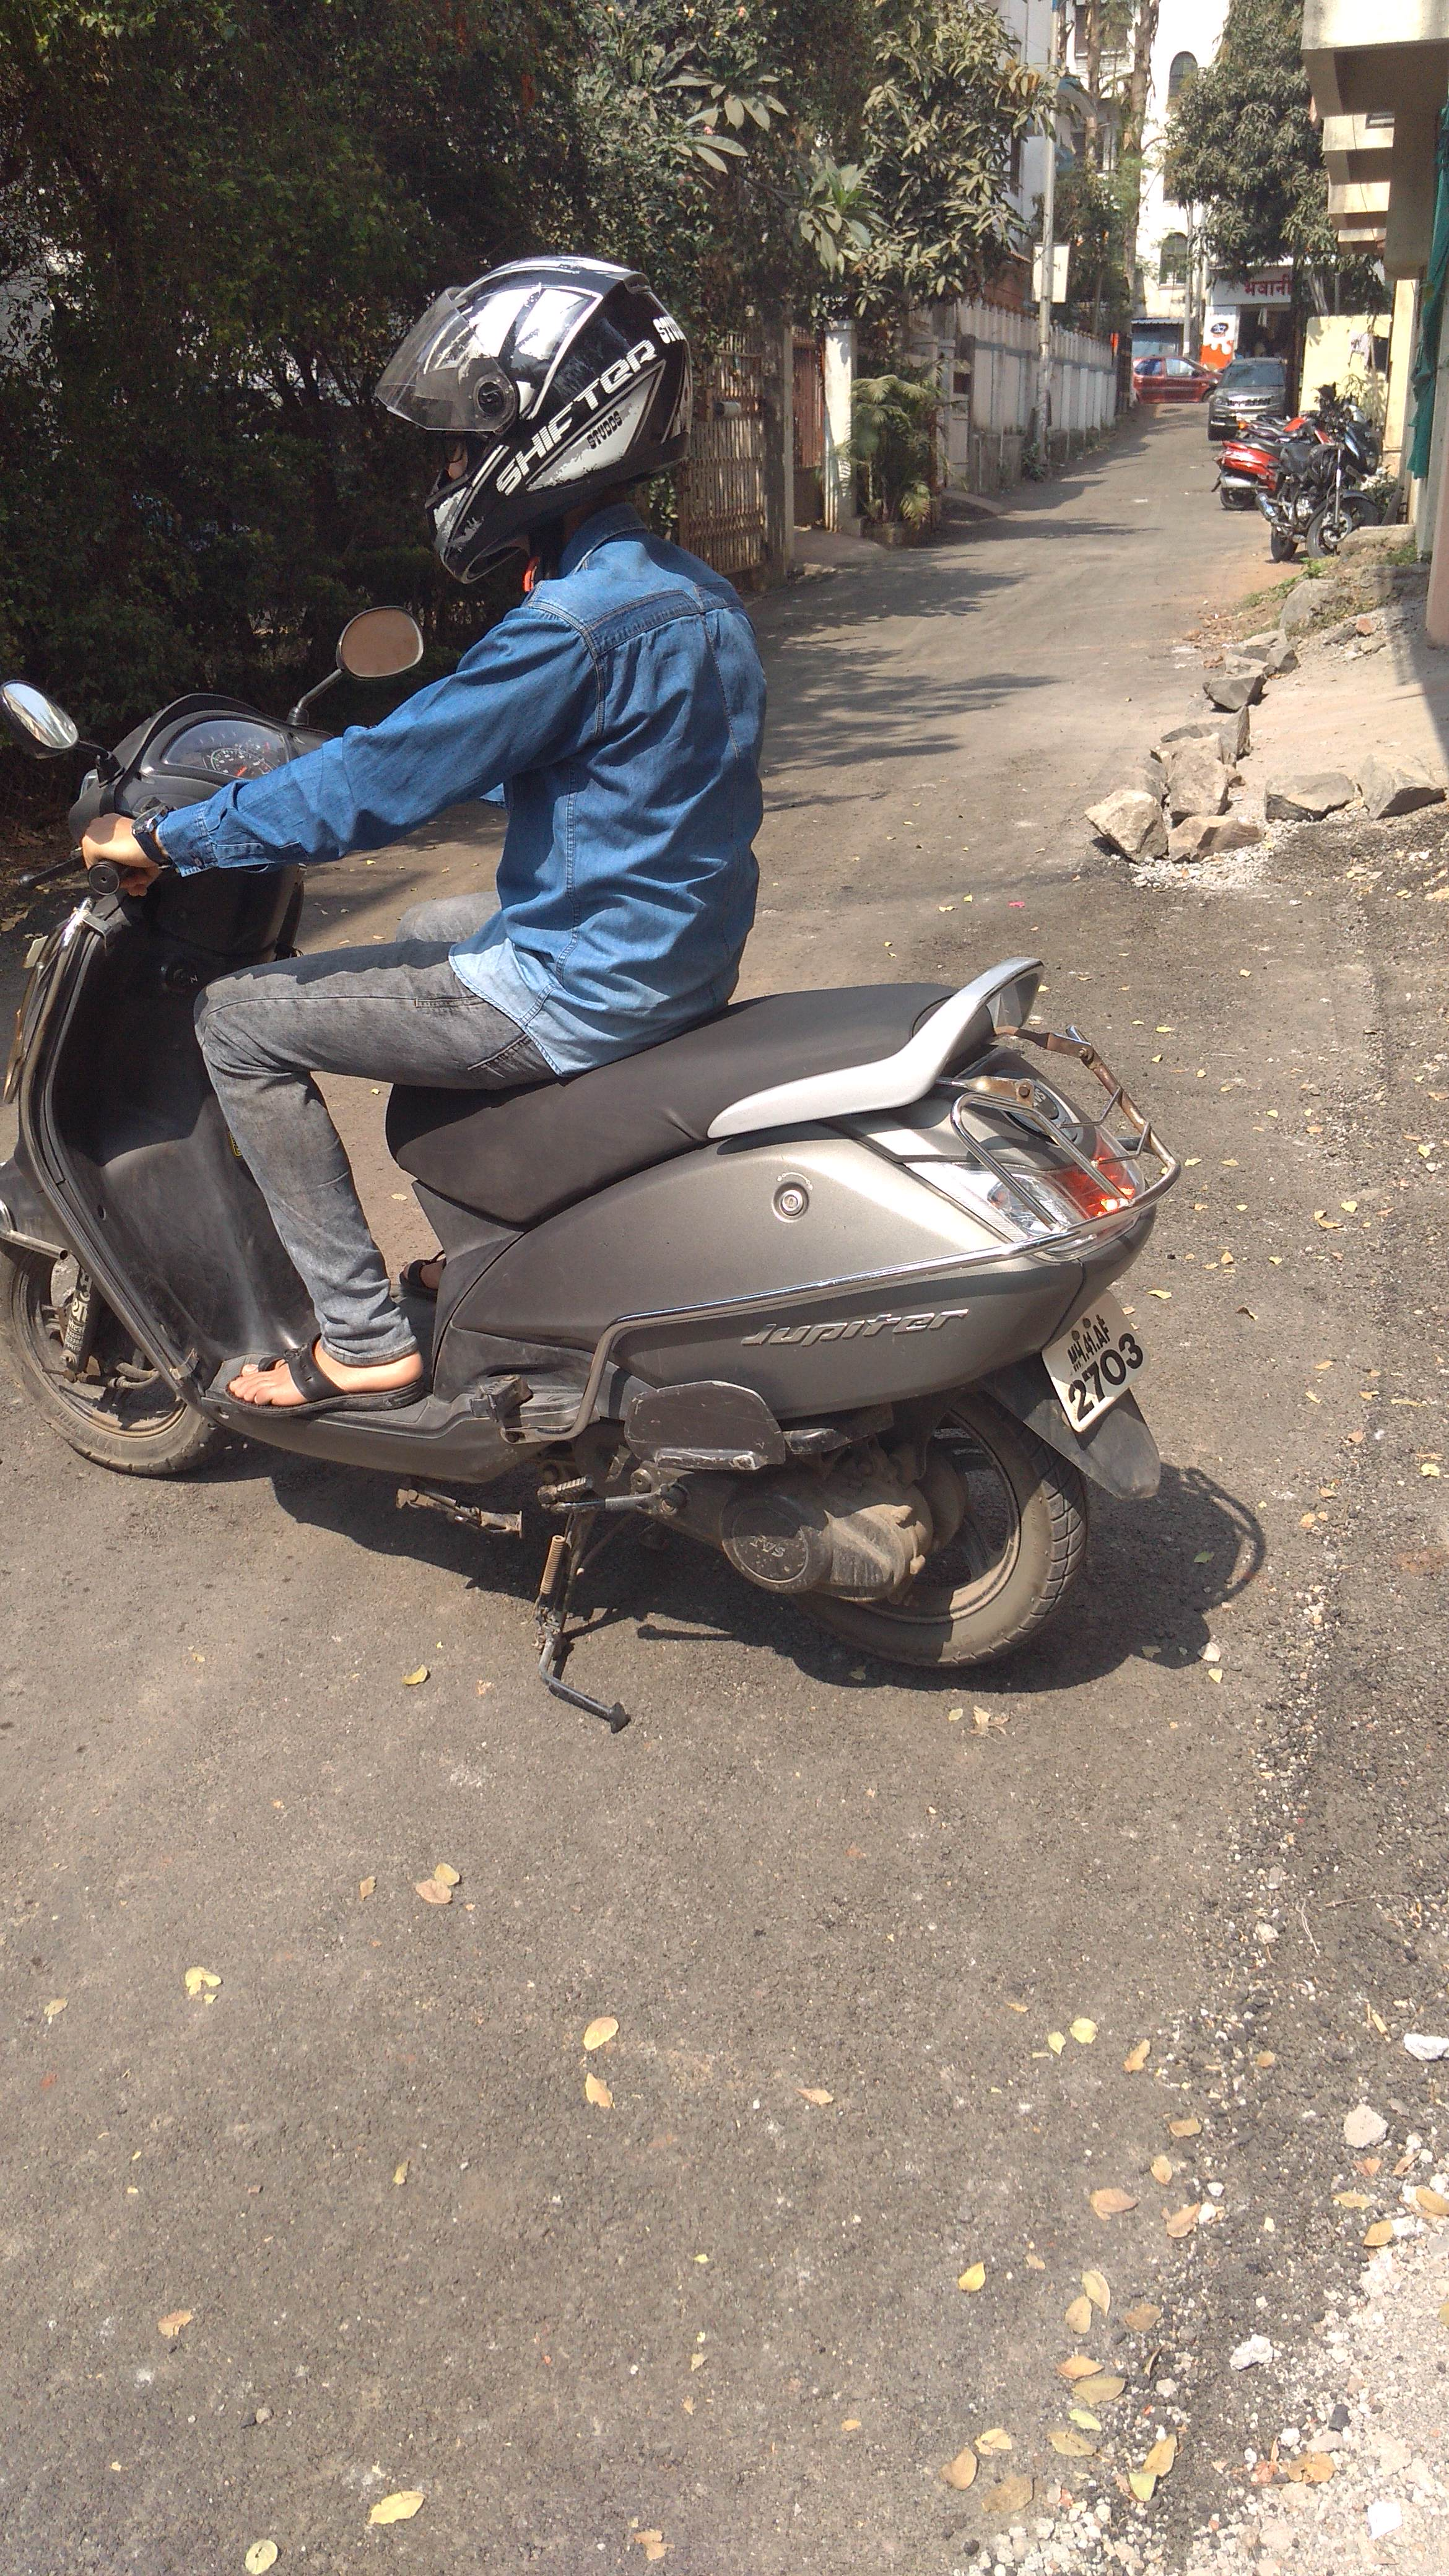helmet: (175, 214, 810, 1230)
